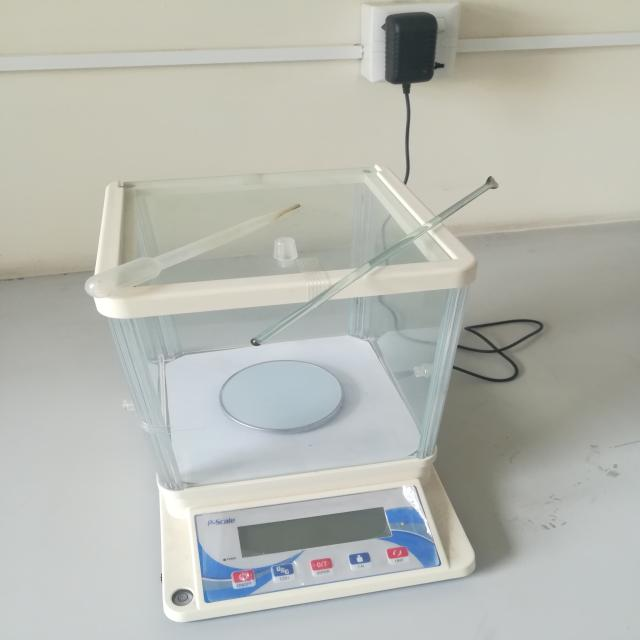Glass_Rod: (244, 163, 525, 367)
Pipette: (67, 187, 319, 314)
